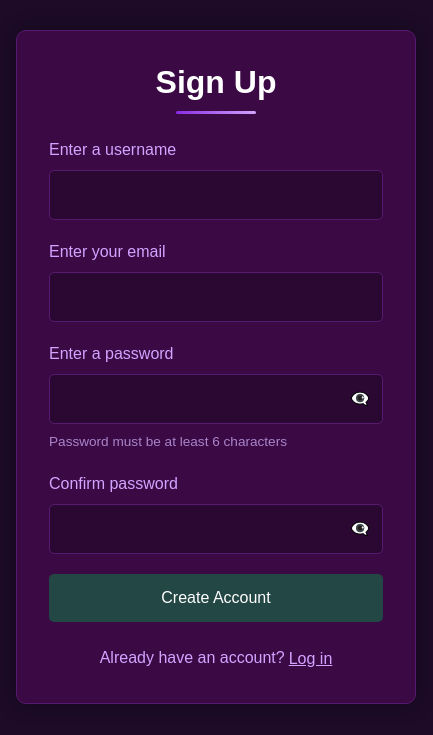
Test: SignUpPage › shows error when username is already taken
This screenshot has width=433, height=735.
Type "testuser" into the field labelled "Enter a username" at (216, 195), box x1=49 y1=170 x2=383 y2=220
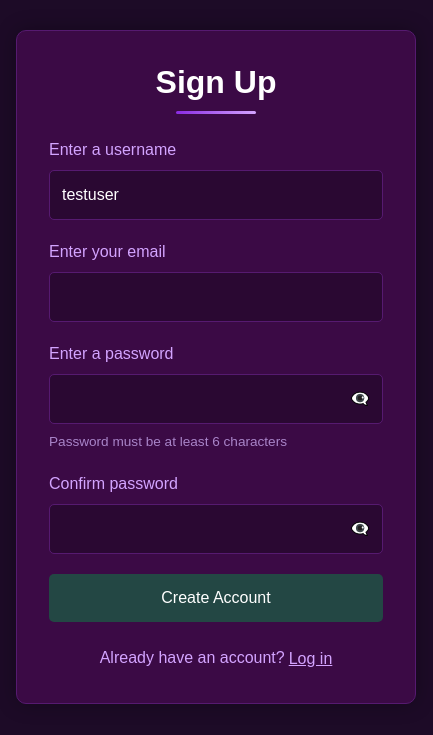
Type "test@example.com" into the field labelled "Enter your email" at (216, 297), box x1=49 y1=272 x2=383 y2=322
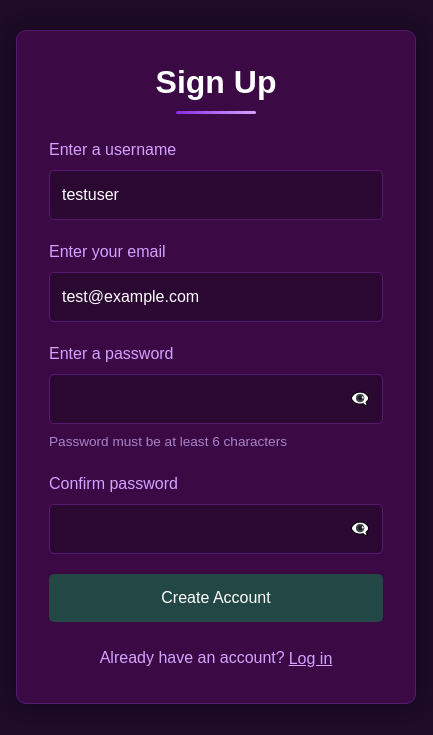
Type "password123" into the password field labelled "Enter a password" at (216, 399), box x1=49 y1=374 x2=383 y2=424
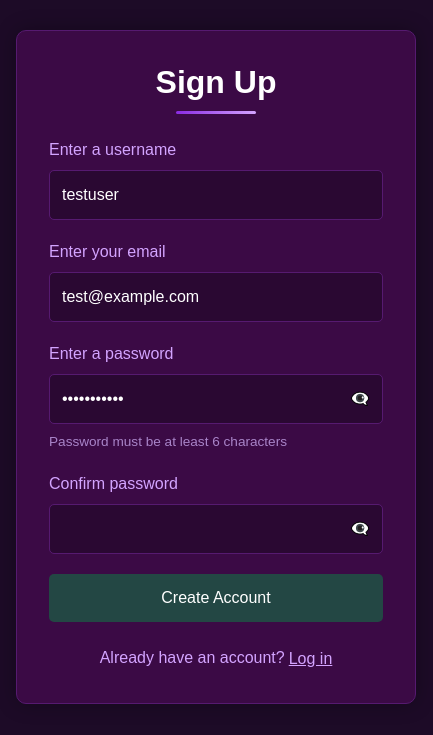
Type "password123" into the password field labelled "Confirm password" at (216, 529), box x1=49 y1=504 x2=383 y2=554
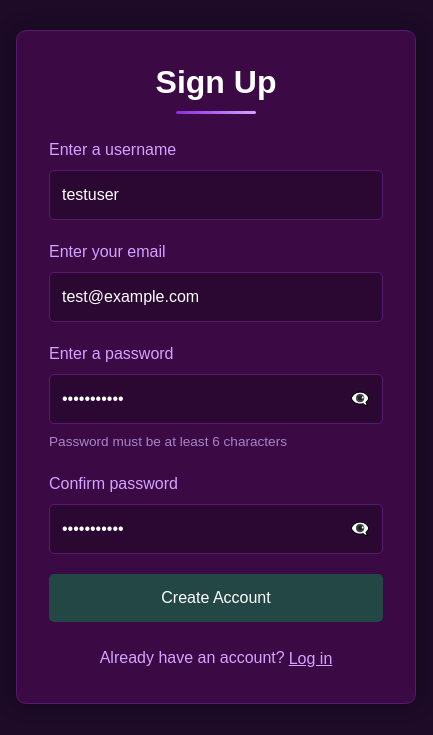
Click the button "Create Account" at (216, 598), box x1=49 y1=574 x2=383 y2=622
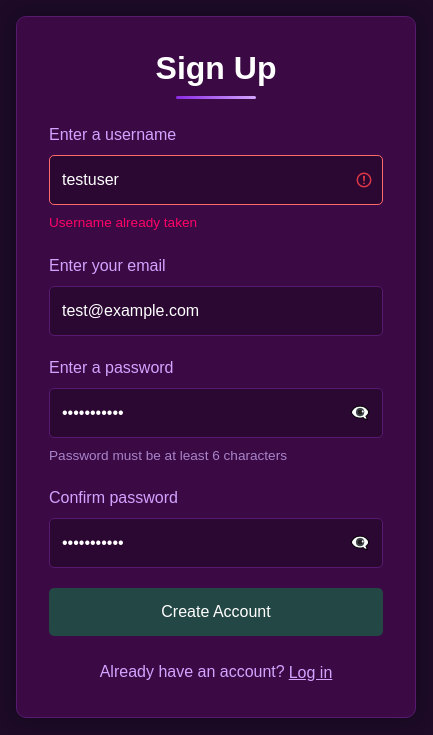
Expected: the text "Username already taken" is shown, x1=49 y1=215 x2=197 y2=230
